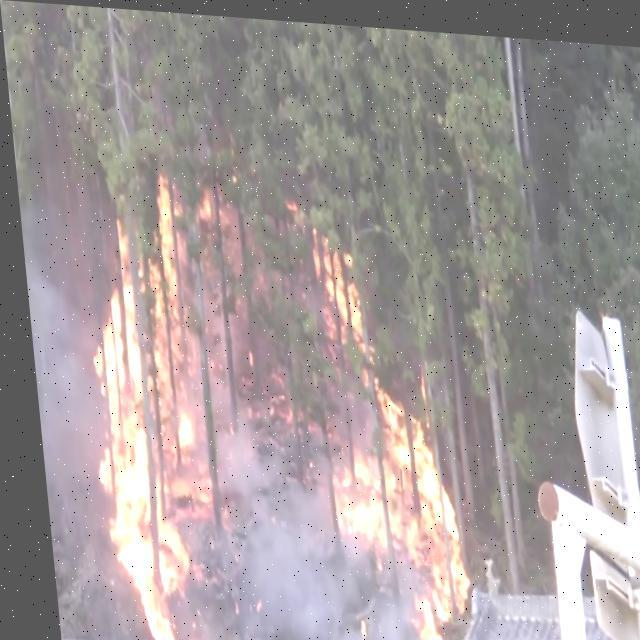Fire: (55, 165, 218, 639), (304, 222, 466, 639), (196, 195, 208, 214)
